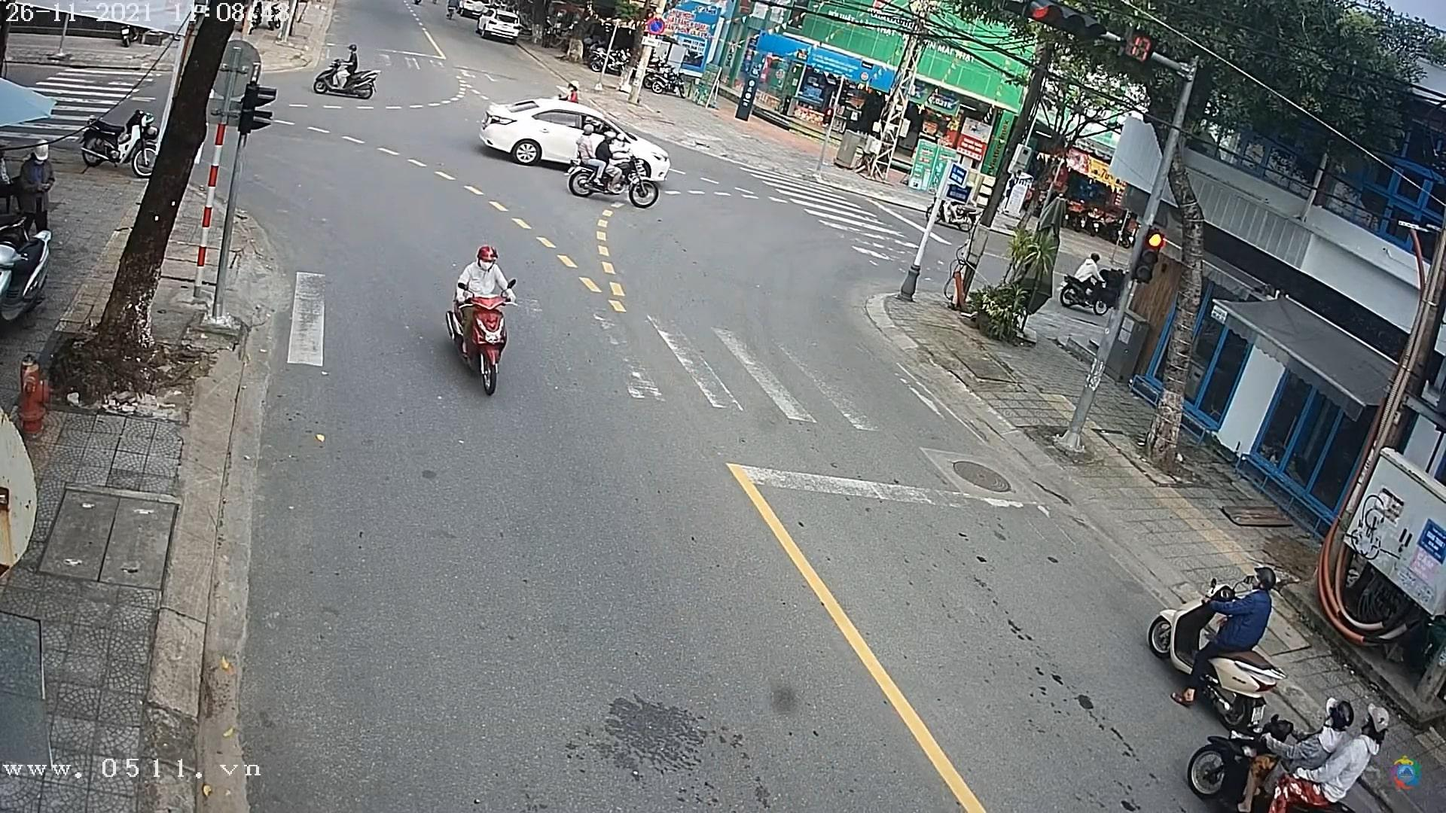car: (478, 16, 527, 46)
motorbike: (450, 295, 515, 396)
